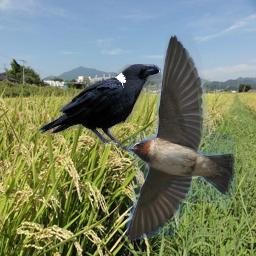Crow: (38, 64, 161, 153)
Swallow: (126, 34, 236, 242)
